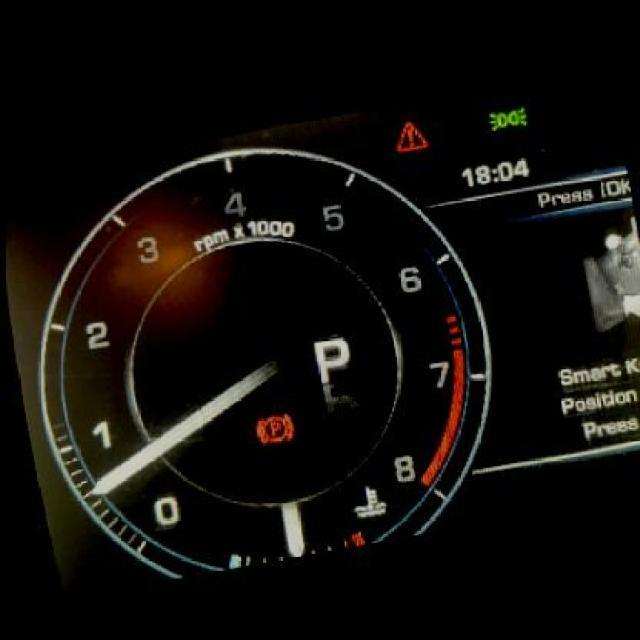Engine cooling system: (346, 482, 388, 524)
